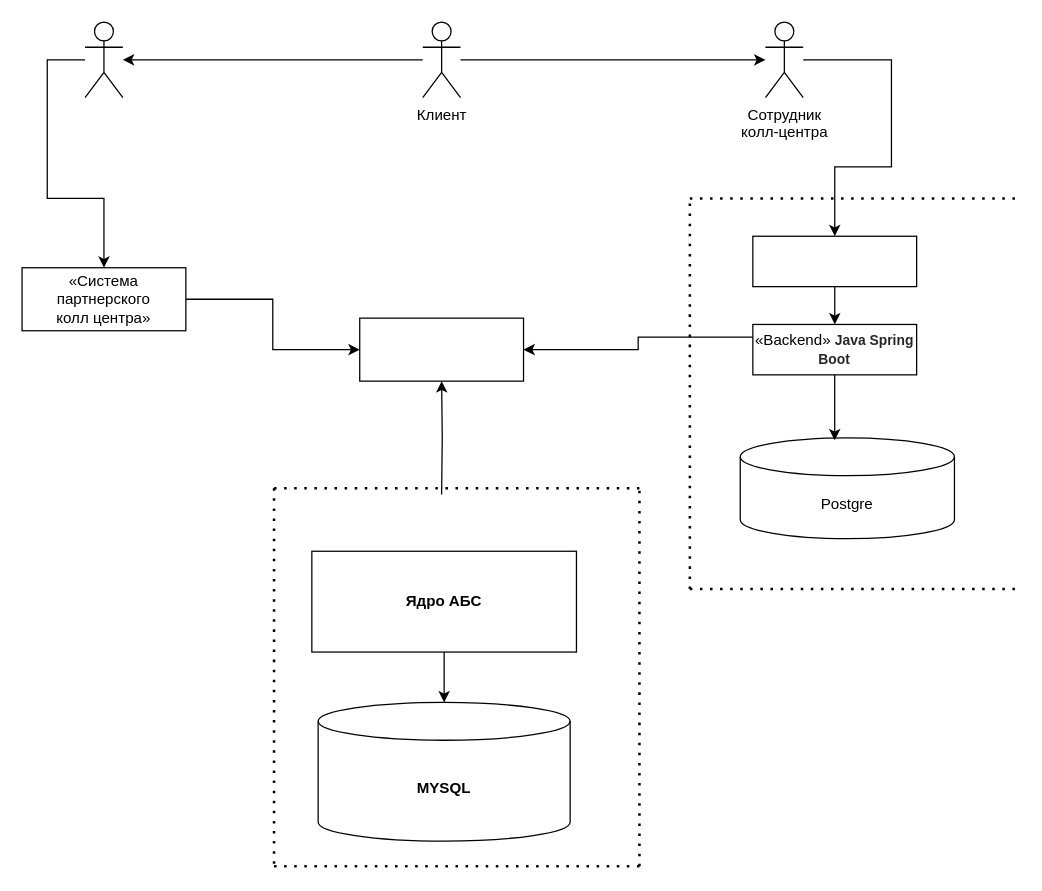
This 1042x891 diagram has some shape labels left out. Each missing label, with the centre of its shape:
"«Система колл ц» React.js" goes at (x=834, y=261).
"Сервис ставок" goes at (x=441, y=349).
"Сотрудник партнерского колл-центра" goes at (x=103, y=59).
